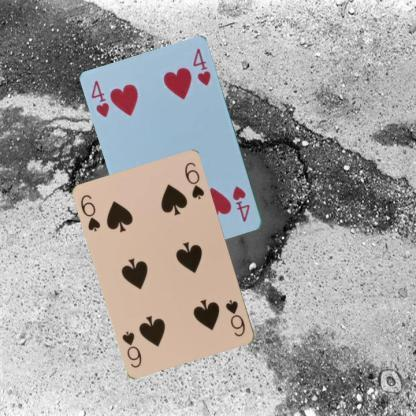4h: (230, 183, 252, 224), (89, 78, 111, 119)
6s: (223, 297, 247, 338), (78, 192, 102, 233)
